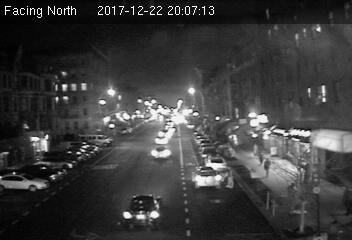car: (121, 192, 166, 228), (190, 166, 222, 189), (203, 154, 225, 169), (150, 146, 172, 160), (154, 135, 169, 145)
pedestrian: (262, 156, 272, 178)
